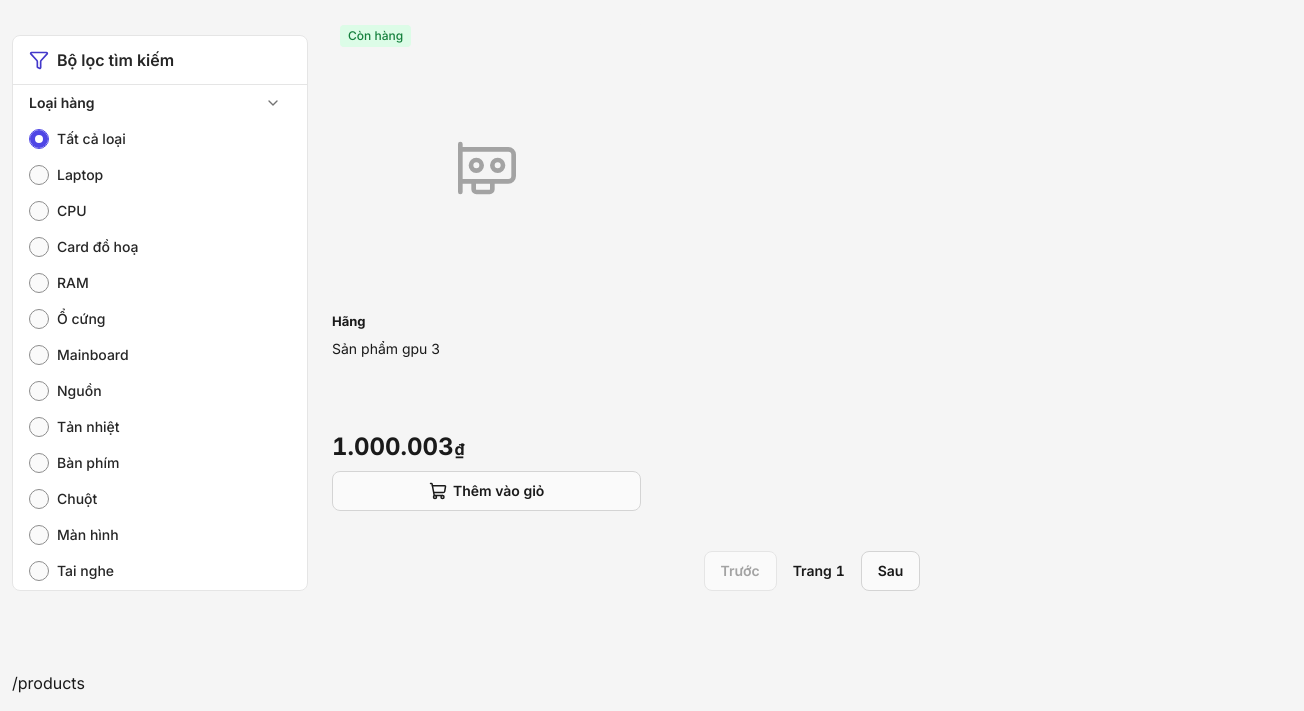
Test: ProductListPage › Sau tới trang 3 rồi Trước: về đúng trang 2 nhờ cursor giữ trong state
(page scrolled)
Step 1. Click the link with aria-label "Trang sau" → click(891, 571), box [861,551,920,591]
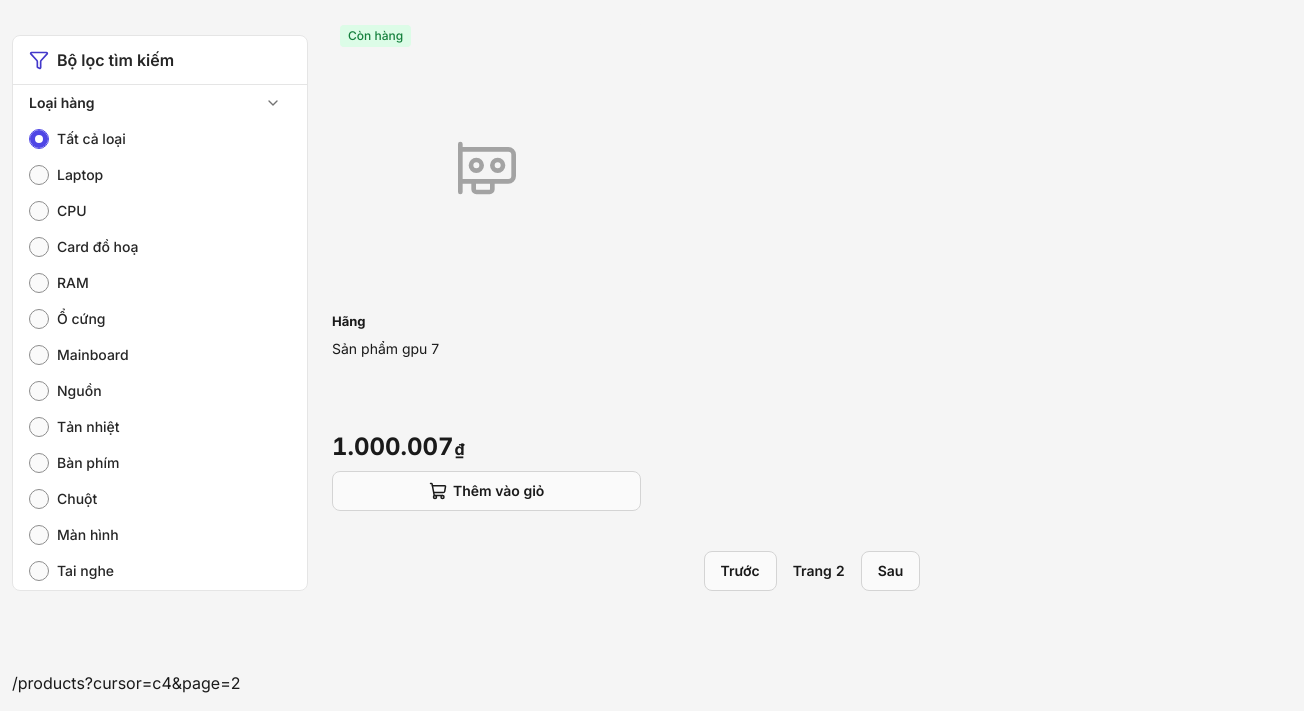
Expected: the text "Trang 2" is shown, [793,562,845,579]
Step 2. Click the link with aria-label "Trang sau" → click(891, 571), box [861,551,920,591]
(page scrolled)
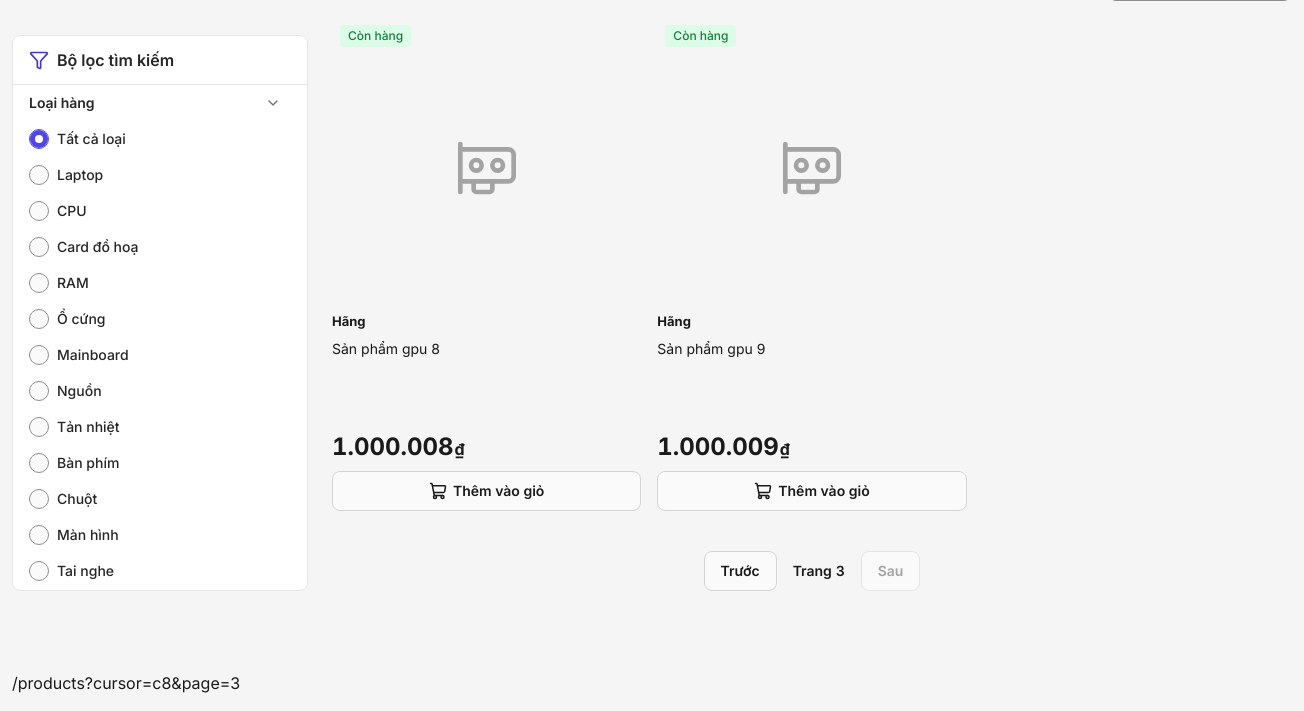
Expected: the text "Trang 3" is shown, [793,562,845,579]
Step 3. Click the link with aria-label "Trang trước" → click(740, 571), box [704,551,777,591]
(page scrolled)
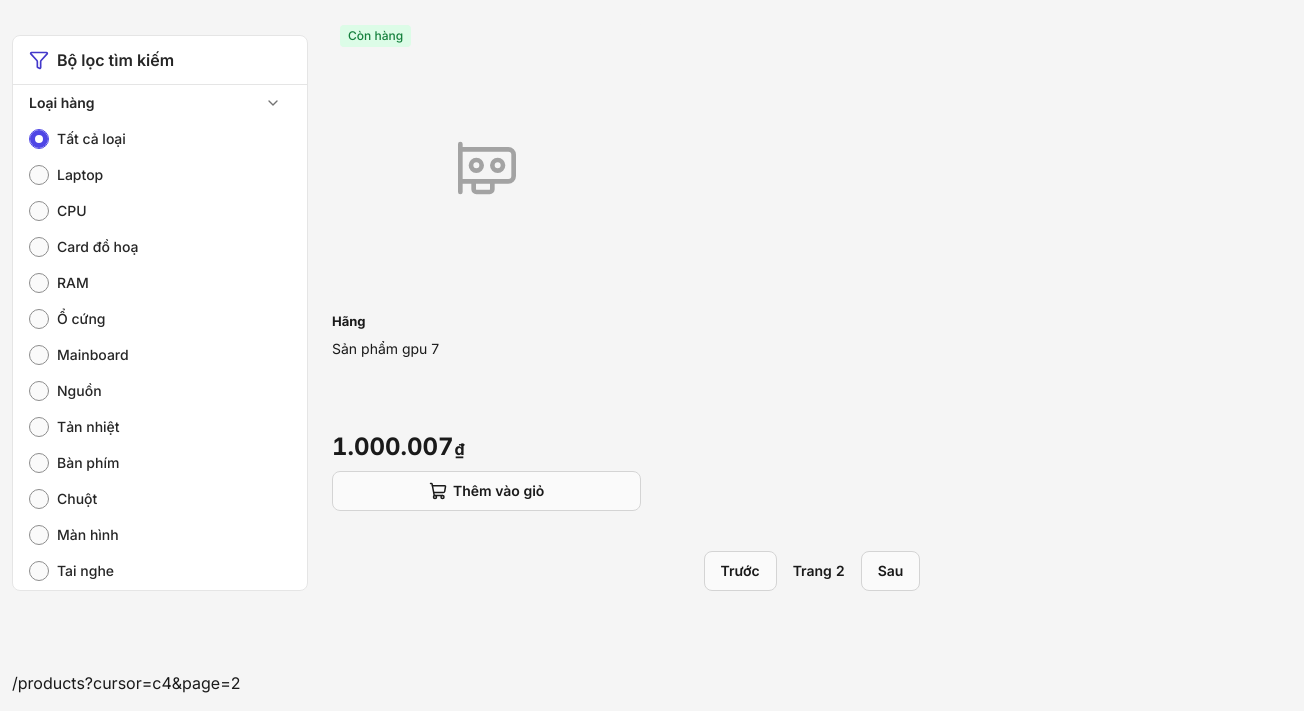
Expected: the text with test id "url" reads "/products?cursor=c4&page=2", [12,673,240,693]
